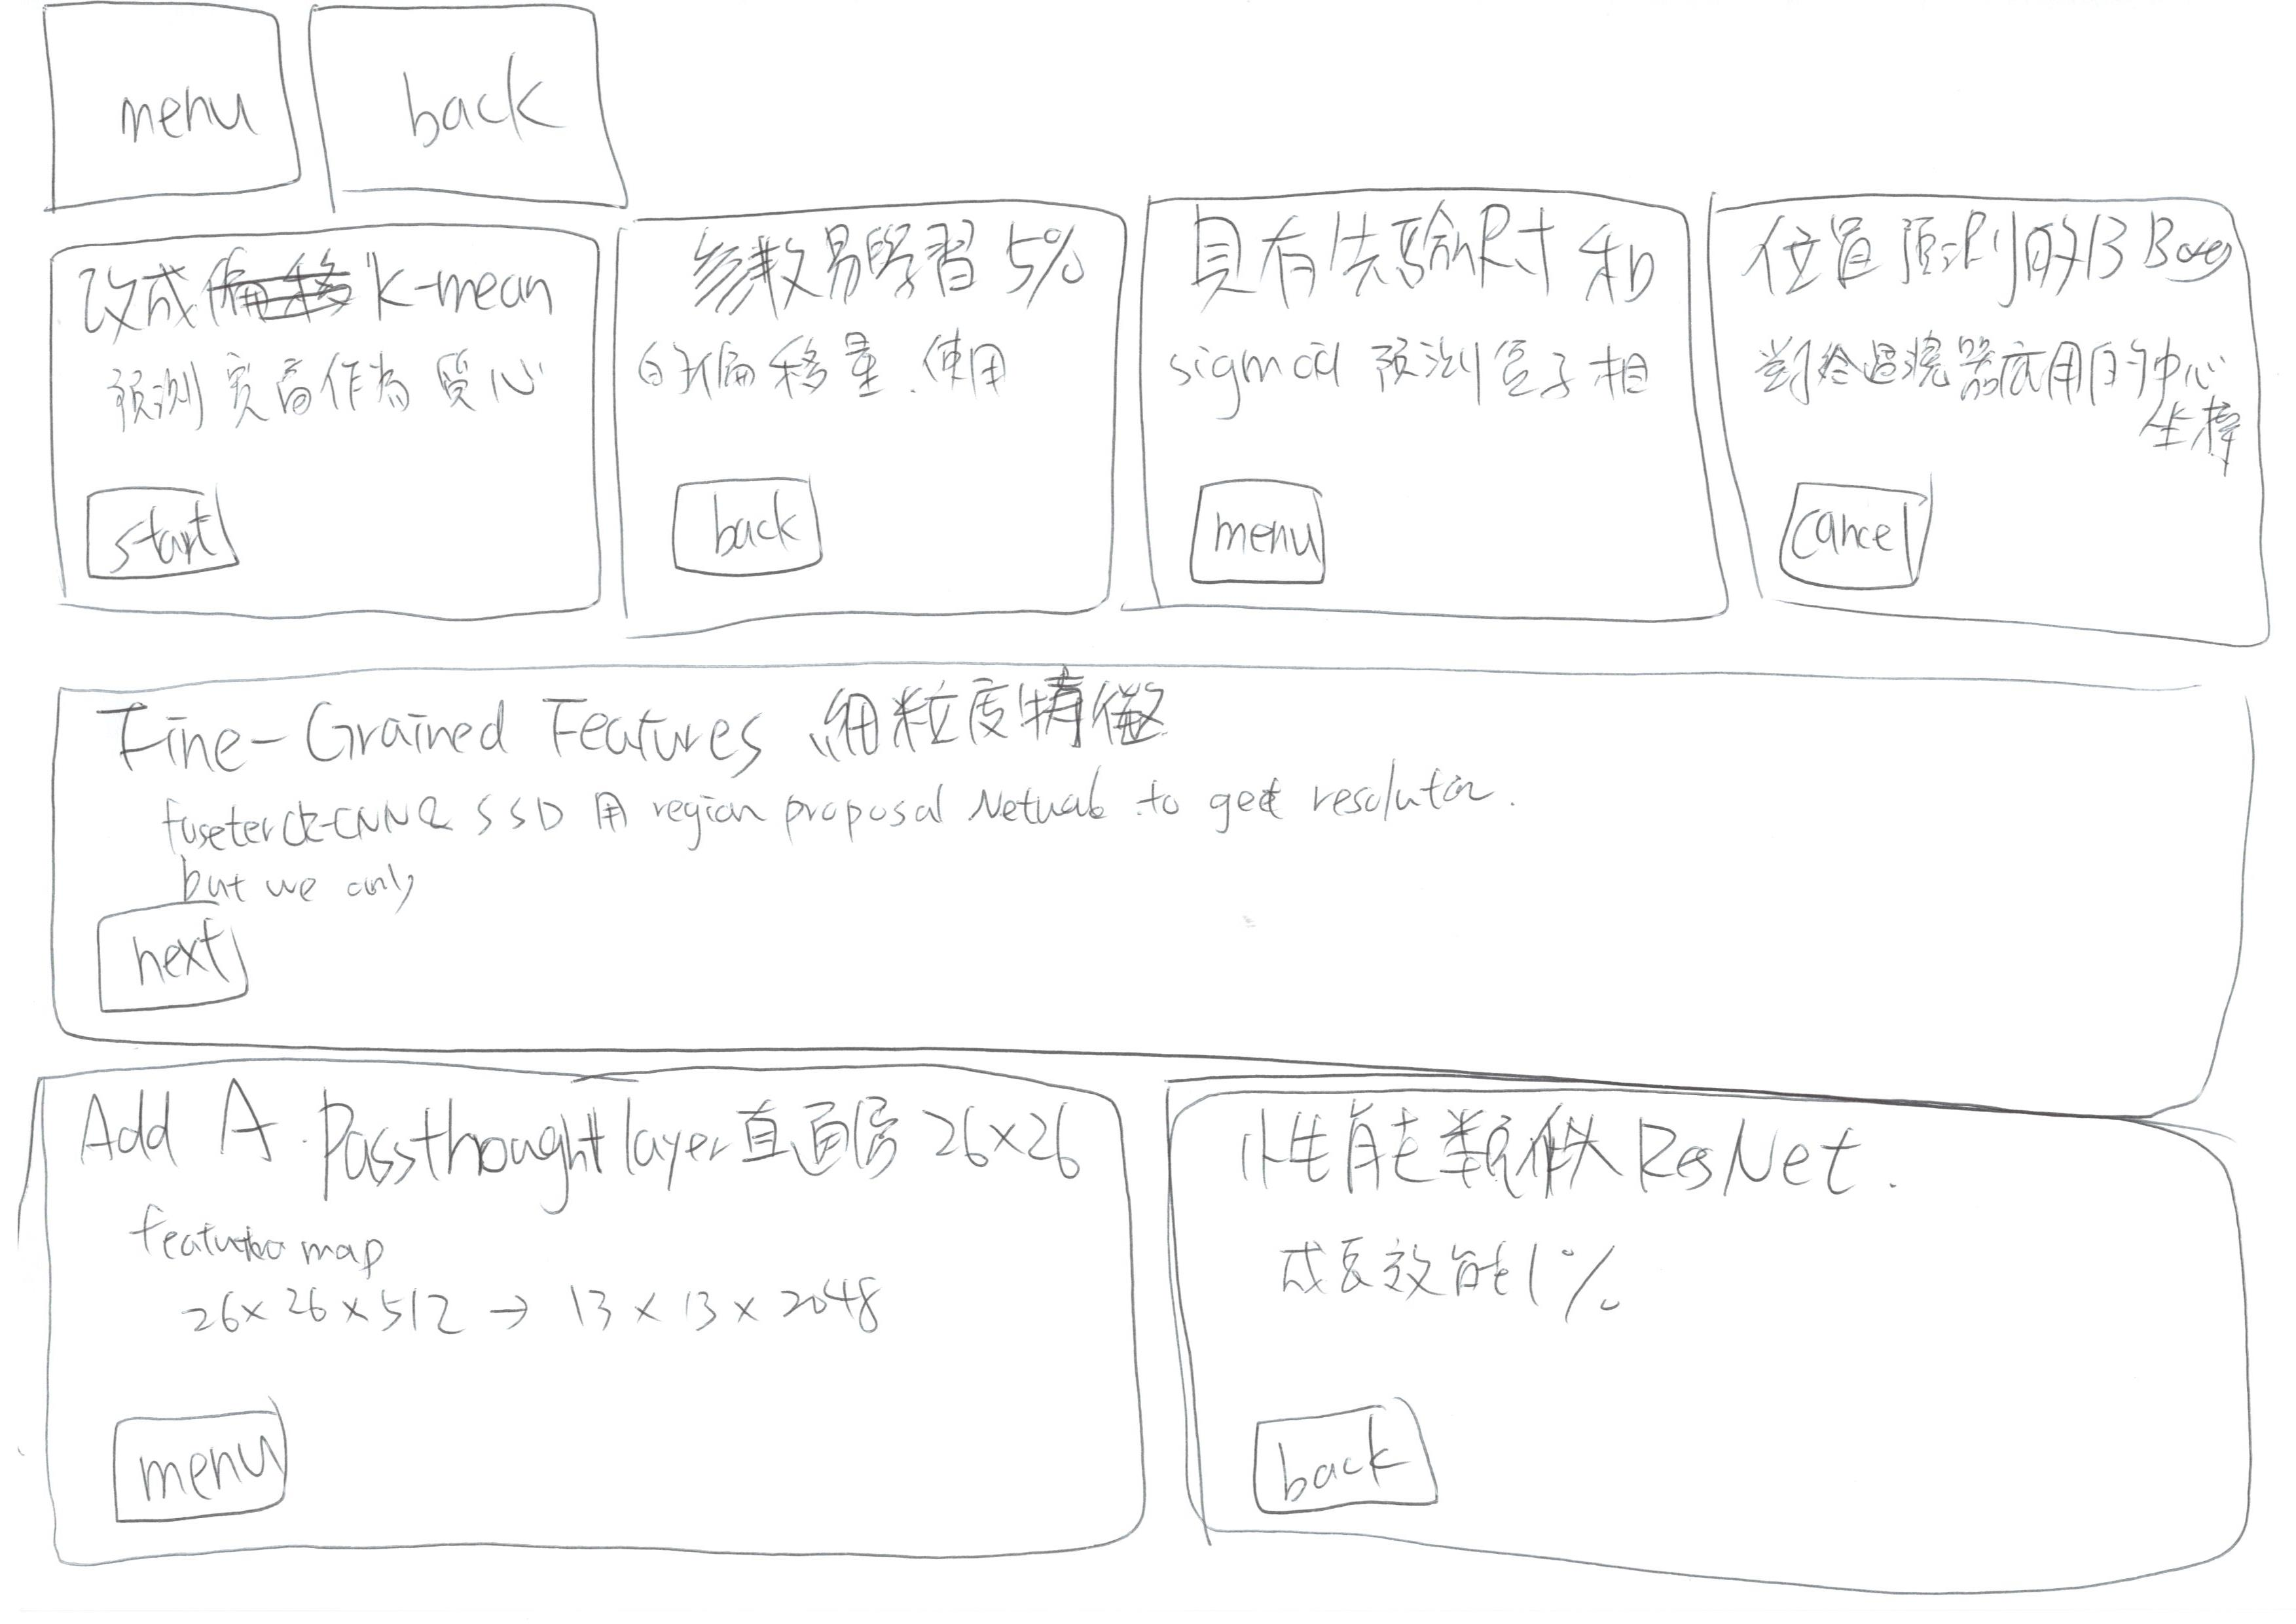back: (287, 0, 654, 244), (1222, 1374, 1449, 1527), (650, 452, 865, 608)
cancel: (1755, 457, 1985, 606)
double: (1139, 1060, 2296, 1624), (11, 1046, 1167, 1608)
menu: (19, 2, 316, 237), (88, 1394, 327, 1550), (1167, 468, 1352, 613)
next: (74, 898, 281, 1039)
quadruple: (1658, 179, 2296, 659), (1116, 176, 1755, 654), (599, 181, 1164, 656), (35, 213, 628, 654)
row: (14, 1049, 2296, 1624), (14, 167, 2296, 692), (14, 652, 2296, 1142), (5, 0, 2287, 239)
single: (21, 634, 2296, 1142)
small-title: (49, 1088, 1078, 1202), (98, 689, 1194, 772), (1280, 1084, 1916, 1216), (1201, 204, 1649, 313), (1749, 207, 2220, 301), (675, 216, 1090, 313), (93, 260, 526, 336)
start: (67, 469, 265, 592)
text: (153, 770, 1547, 909), (102, 1200, 956, 1383), (1758, 302, 2240, 473), (1171, 322, 1658, 443), (91, 337, 536, 448), (631, 325, 1021, 432), (1282, 1230, 1663, 1339)
